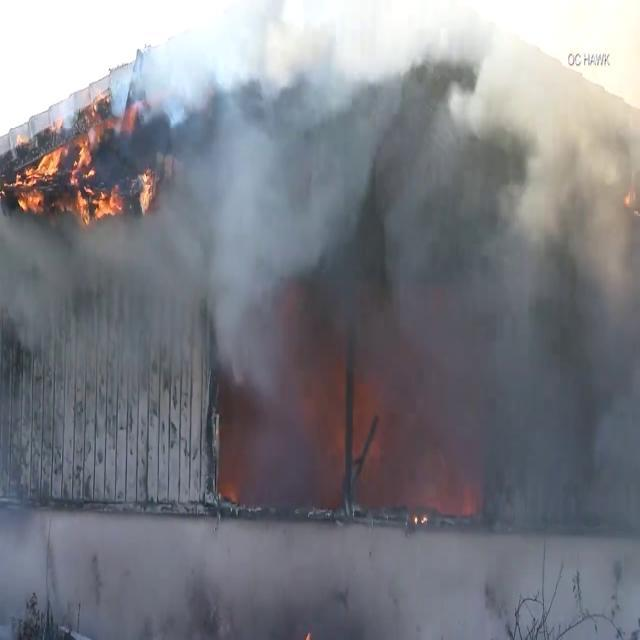Fire: (10, 124, 126, 223)
Smoke: (180, 4, 640, 520)
